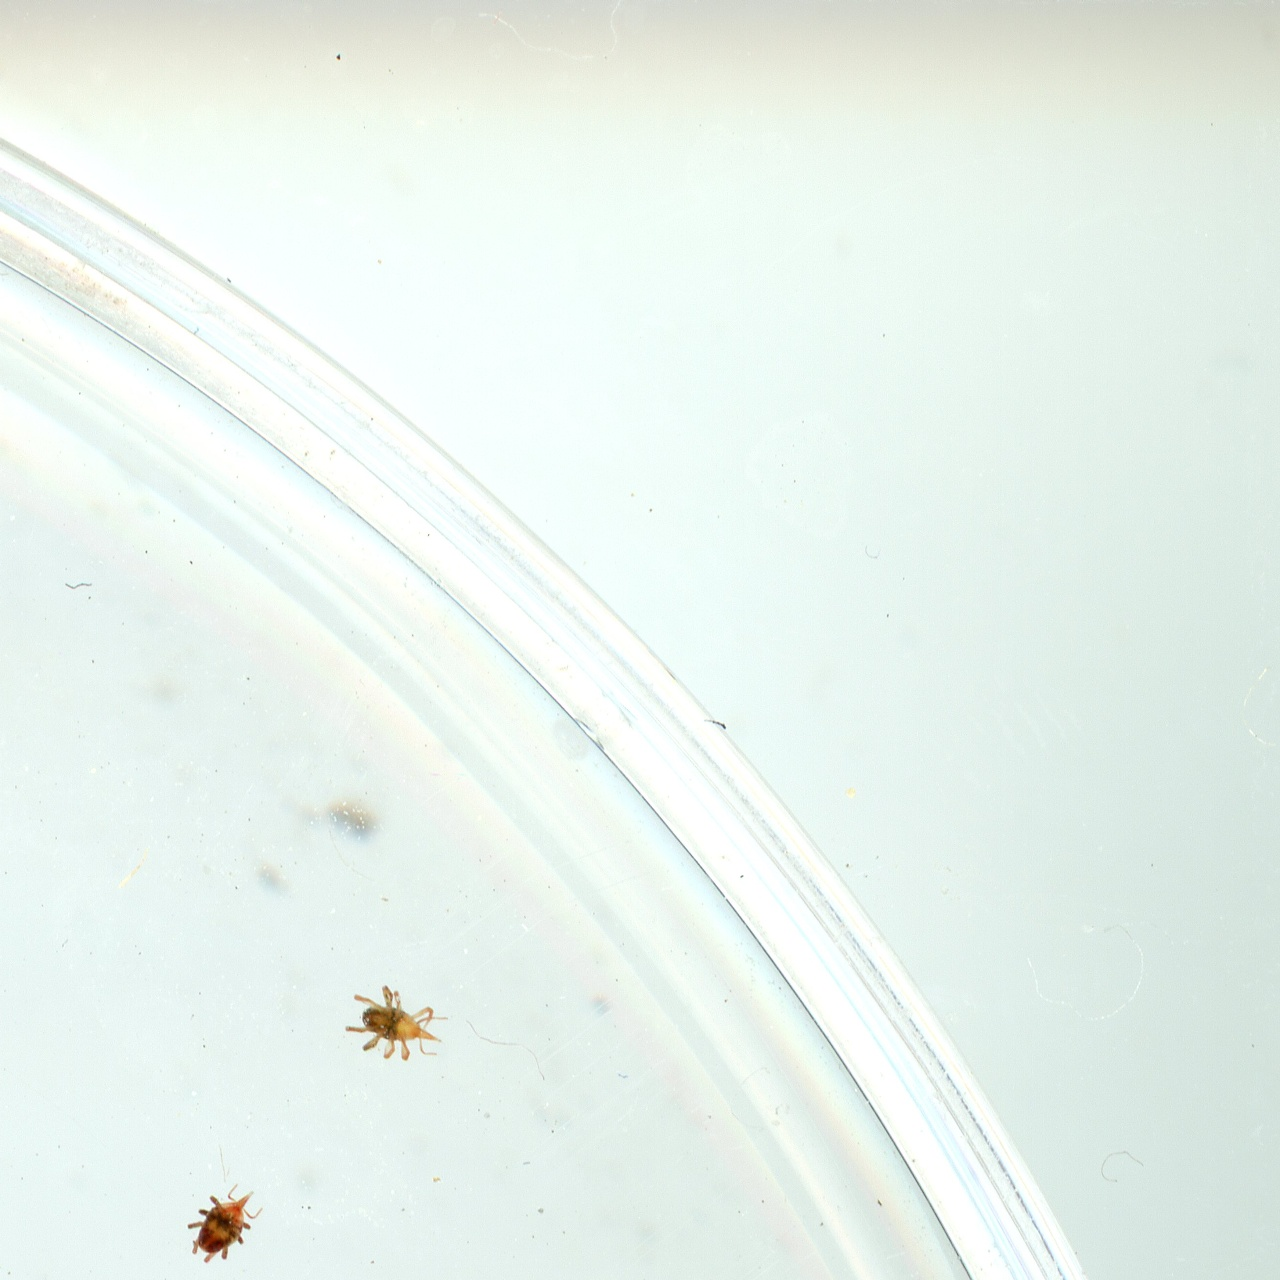arthropod: (345, 981, 448, 1065), (190, 1180, 264, 1264), (347, 972, 387, 1049)
